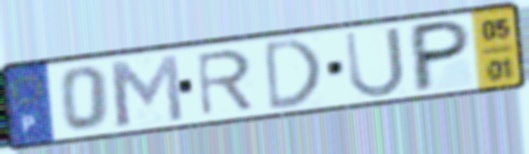0: (55, 63, 114, 134)
D: (262, 35, 324, 115)
M: (104, 51, 188, 130)
P: (410, 17, 475, 96)
R: (193, 46, 257, 119)
U: (341, 24, 409, 101)
